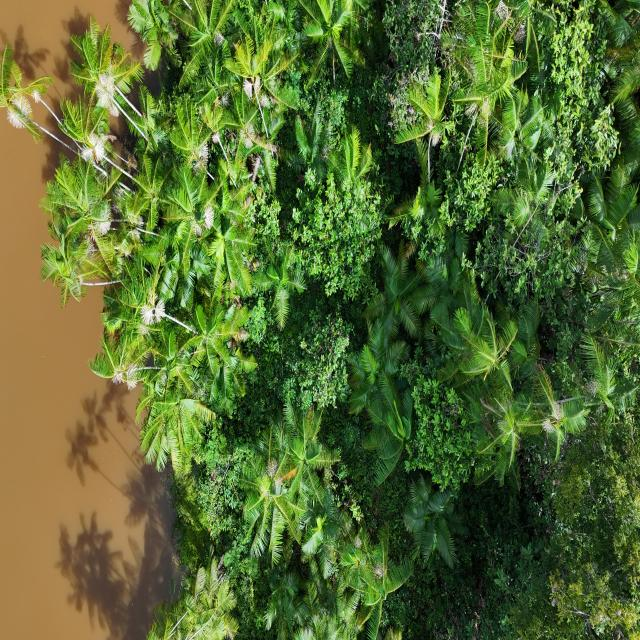vegetation: (1, 1, 638, 638)
